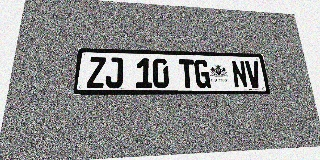0: (152, 58, 169, 88)
1: (136, 58, 152, 88)
G: (194, 59, 211, 88)
J: (105, 57, 123, 88)
N: (231, 60, 248, 88)
T: (179, 59, 195, 88)
V: (245, 61, 262, 88)
Z: (87, 57, 106, 88)
